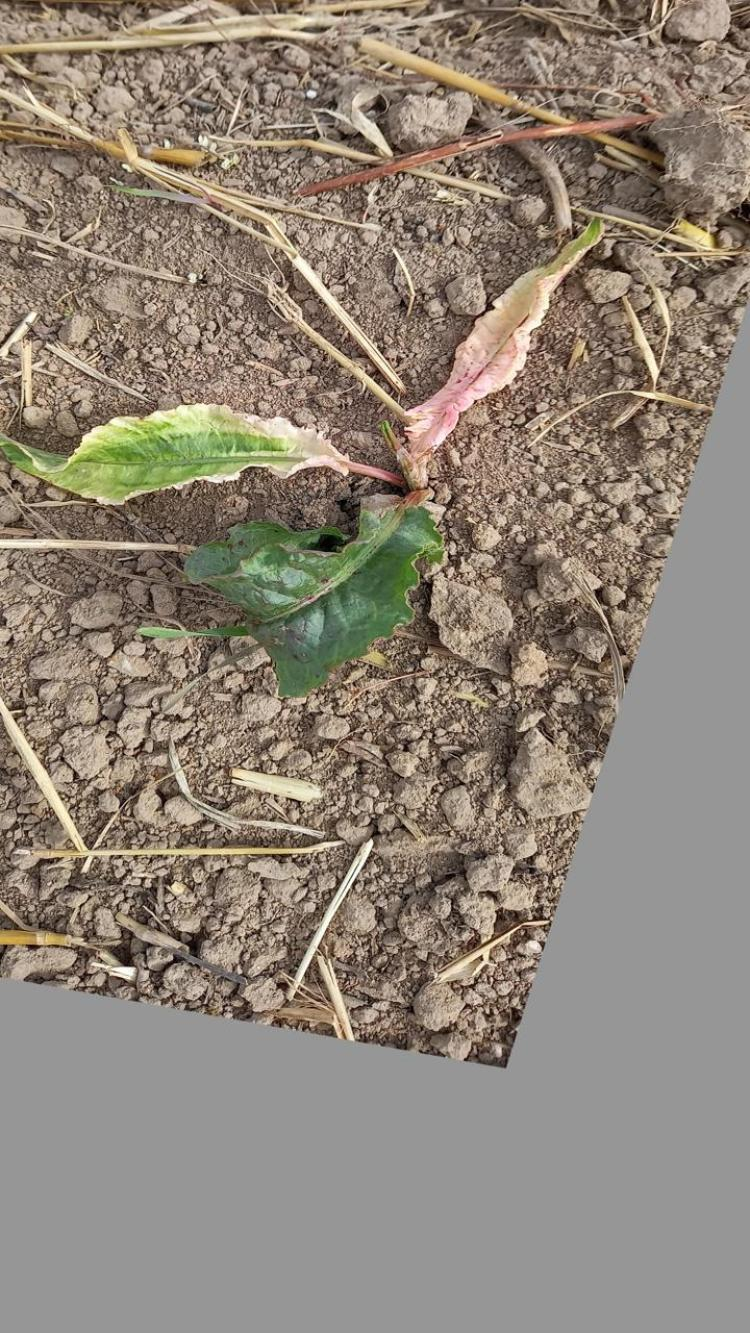zhavel: (0, 208, 606, 700)
